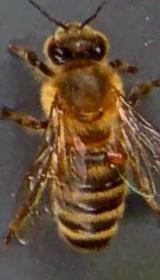varroa_mite: (102, 146, 131, 168)
